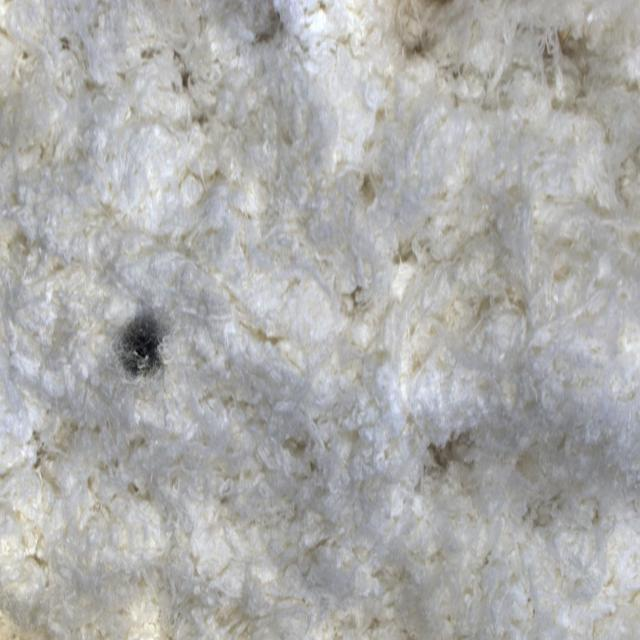dust: (95, 266, 199, 431)
